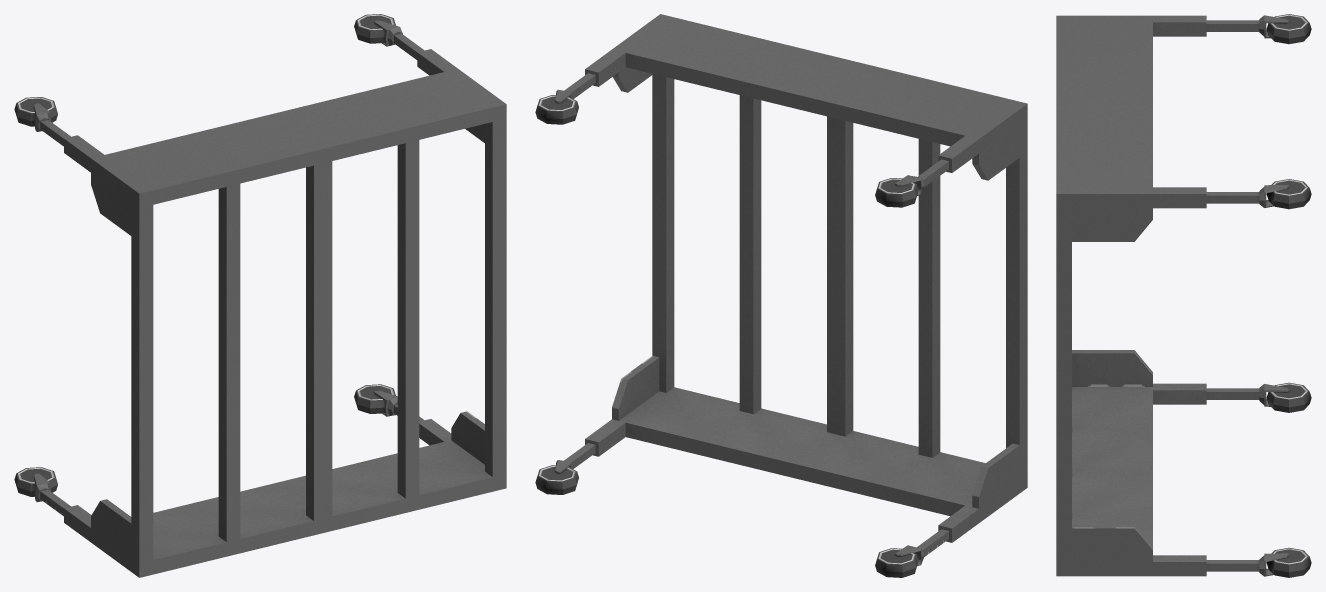
The model's file is cart.obj.
The picture shows the model from 3 angles, left to right: view 1: azimuth 30°, elevation 25°; view 2: azimuth 150°, elevation 25°; view 3: azimuth 270°, elevation 25°; orthographic projection.
Parts seen in each view (by area): view 1: cart_Cube; view 2: cart_Cube; view 3: cart_Cube.
Boxes of the visible parts, <box> form: cart_Cube: <box>14,14,506,577</box>; cart_Cube: <box>535,14,1027,577</box>; cart_Cube: <box>1056,14,1311,577</box>.
Bounding box in the file's own units: 0.8255 × 0.8053 × 0.484.
1 material, 1 textured.
